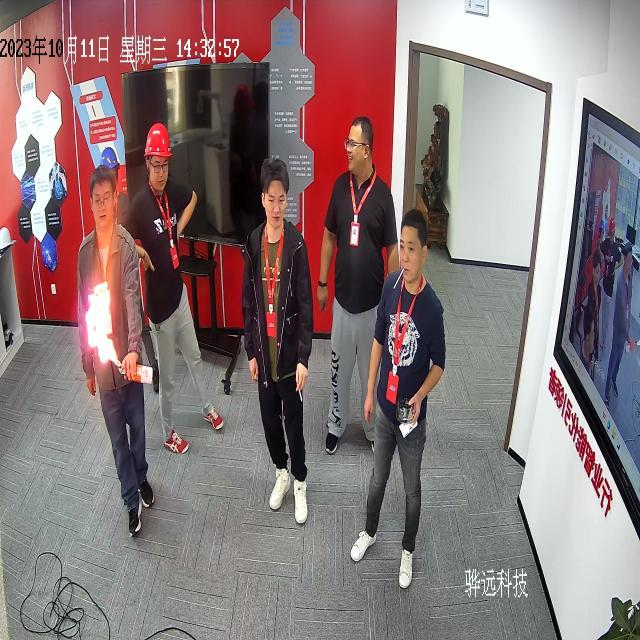Fire: (87, 283, 120, 369)
